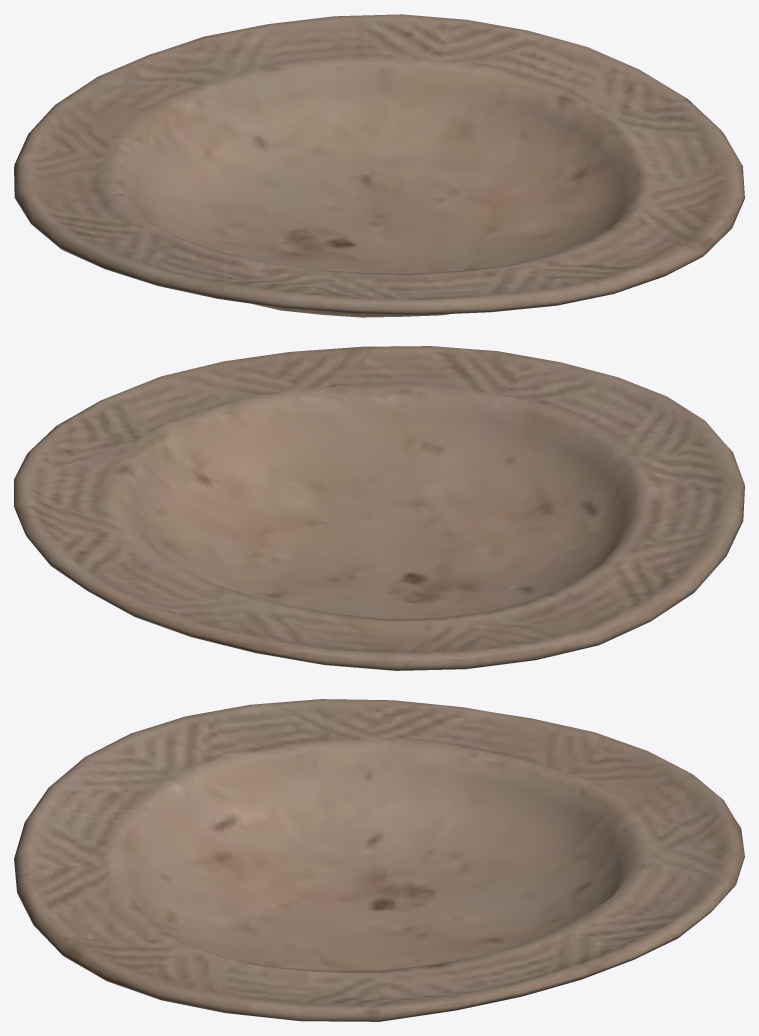
Rendered from carved_wooden_plate.glb.
3 renders of one model, top to bottom at view 1: azimuth 30°, elevation 25°; view 2: azimuth 150°, elevation 25°; view 3: azimuth 270°, elevation 25°, orthographic. The views are drawn at different scales.
Visible parts, largest first — view 1: carved_wooden_plate; view 2: carved_wooden_plate; view 3: carved_wooden_plate.
Boxes of the visible parts, left/top/right/bottom form: carved_wooden_plate: left=14, top=14, right=744, bottom=317; carved_wooden_plate: left=14, top=346, right=744, bottom=670; carved_wooden_plate: left=14, top=699, right=744, bottom=1021.
Size of the model in its own units: 0.2718 by 0.0381 by 0.2688.
1 material, 1 textured.
